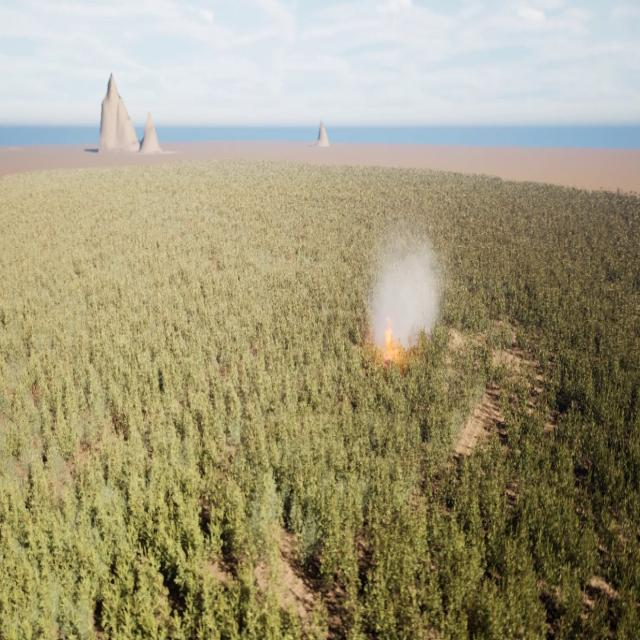fire: (382, 316, 402, 358)
smoke: (368, 222, 444, 356)
